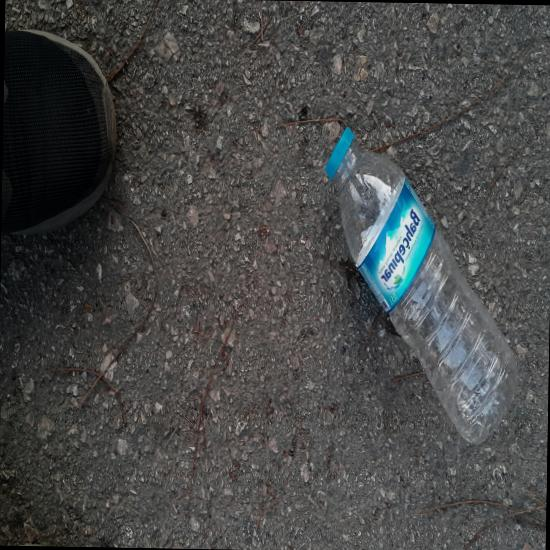Drink carton: (256, 225, 355, 316)
Other plastic: (180, 62, 261, 202)
Other plastic container: (365, 187, 425, 320)
Plastic straw: (419, 169, 427, 190)
Unlabeled litter: (337, 362, 448, 454), (219, 99, 291, 229), (274, 207, 307, 234)
